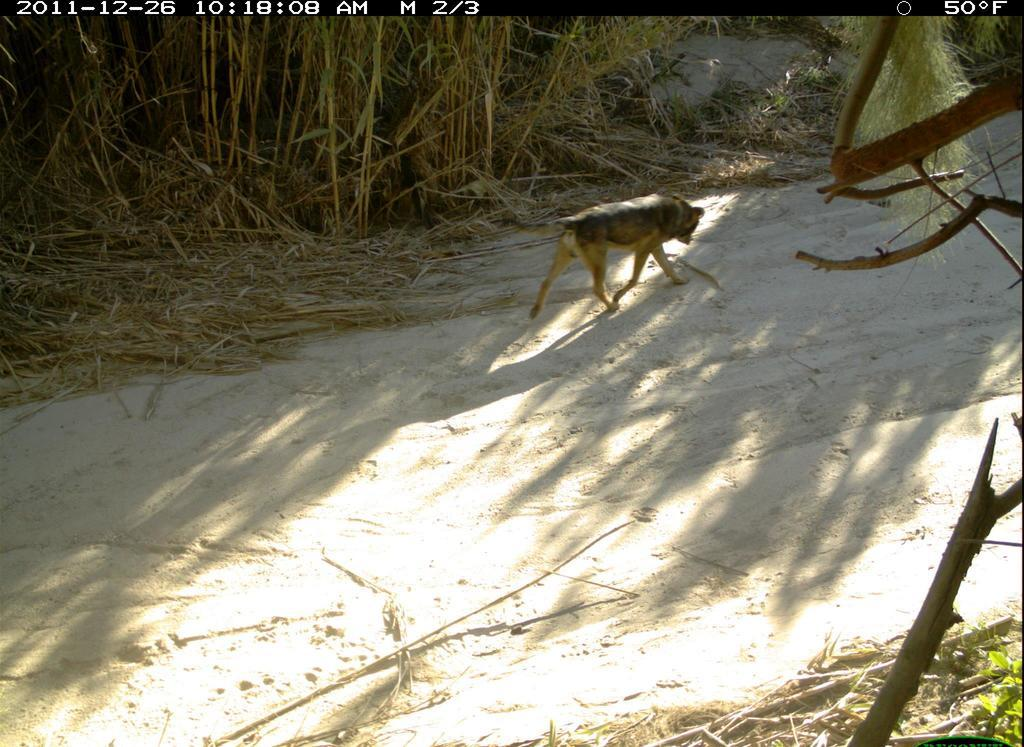dog: (523, 184, 744, 328)
